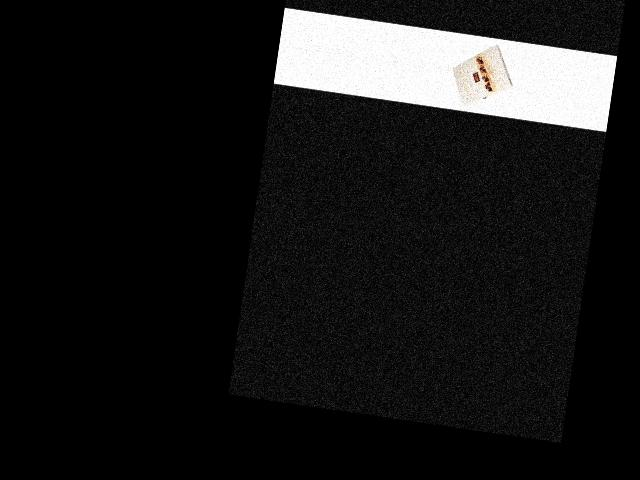chocolate: (448, 34, 520, 113)
